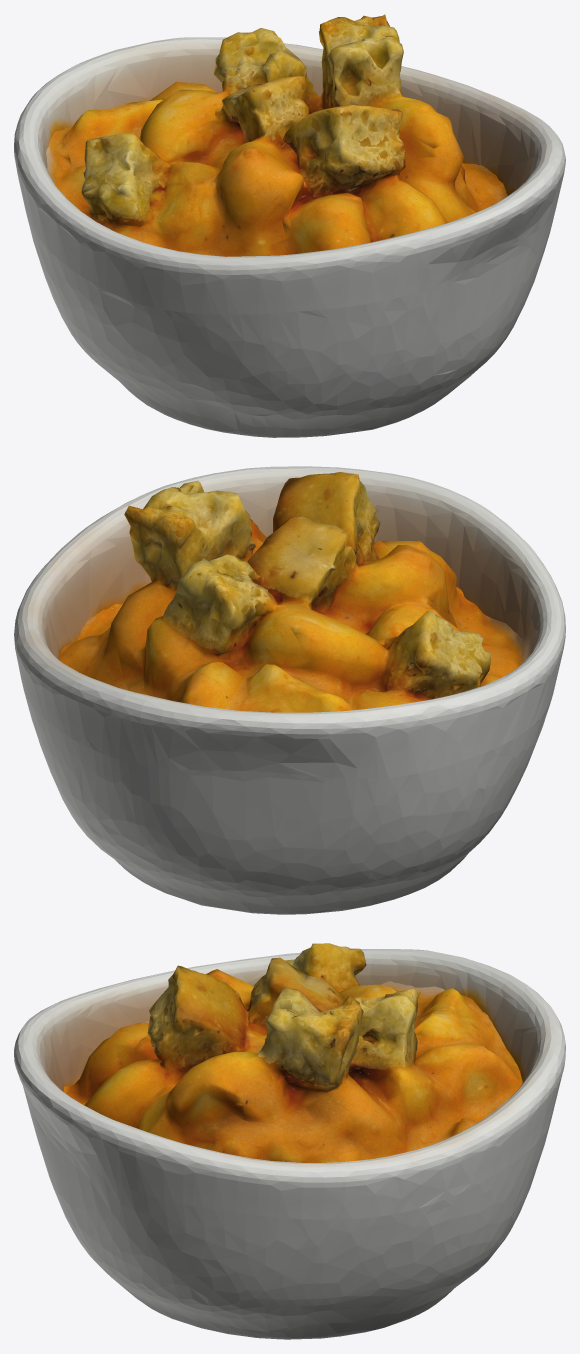
Rendered from PAN_001_Op4.FBX.
3 views of the same model, one above another, from view 1: azimuth 30°, elevation 25°; view 2: azimuth 150°, elevation 25°; view 3: azimuth 270°, elevation 25° (orthographic). The views are drawn at different scales.
Parts seen in each view (by area): view 1: PAN_001_Attach; view 2: PAN_001_Attach; view 3: PAN_001_Attach.
Part boxes in pixels (box(x1,y1,x2,y2)): PAN_001_Attach: box(14, 14, 565, 437); PAN_001_Attach: box(14, 466, 565, 914); PAN_001_Attach: box(14, 943, 565, 1339).
Size of the model in its own units: 118 by 76.93 by 125.
Materials: 2 (2 with a texture image).
